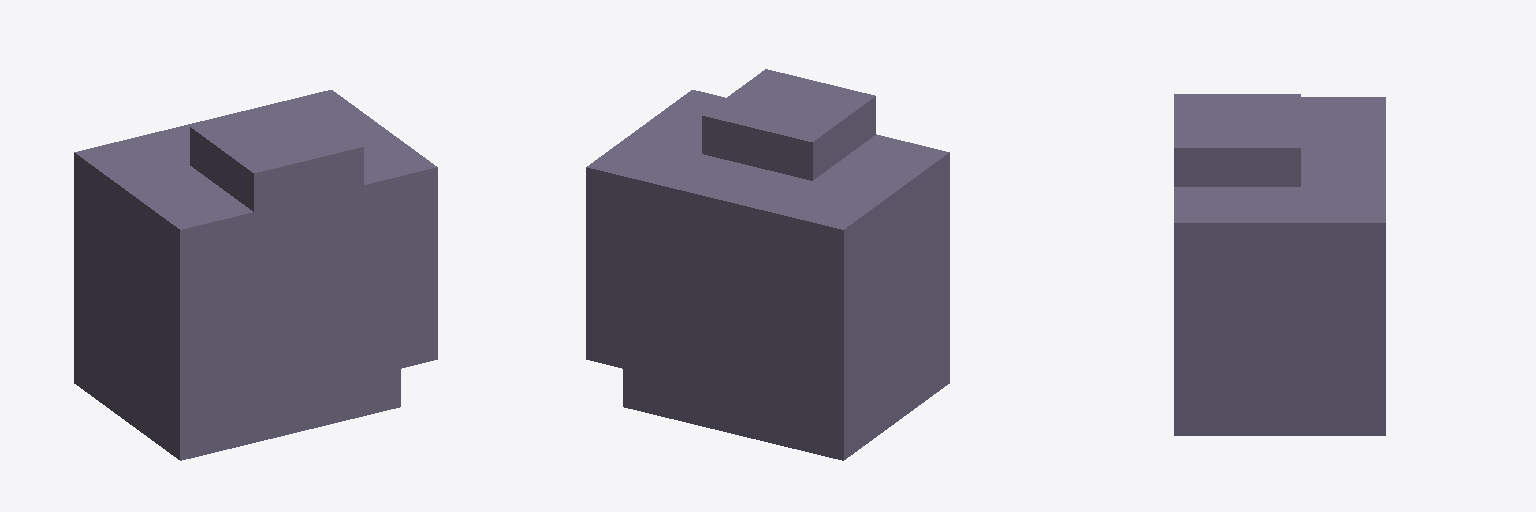
3 views of the same model, side by side, from view 1: azimuth 30°, elevation 25°; view 2: azimuth 150°, elevation 25°; view 3: azimuth 270°, elevation 25° (orthographic).
Parts seen in each view (by area): view 1: object 1; view 2: object 1; view 3: object 1.
Part boxes in pixels (left/top/right/bottom): object 1: left=74, top=90, right=437, bottom=460; object 1: left=586, top=69, right=949, bottom=460; object 1: left=1174, top=94, right=1385, bottom=435.
Size of the model in its own units: 0.7 by 0.7 by 0.5.
Materials: 1 (1 with a texture image).